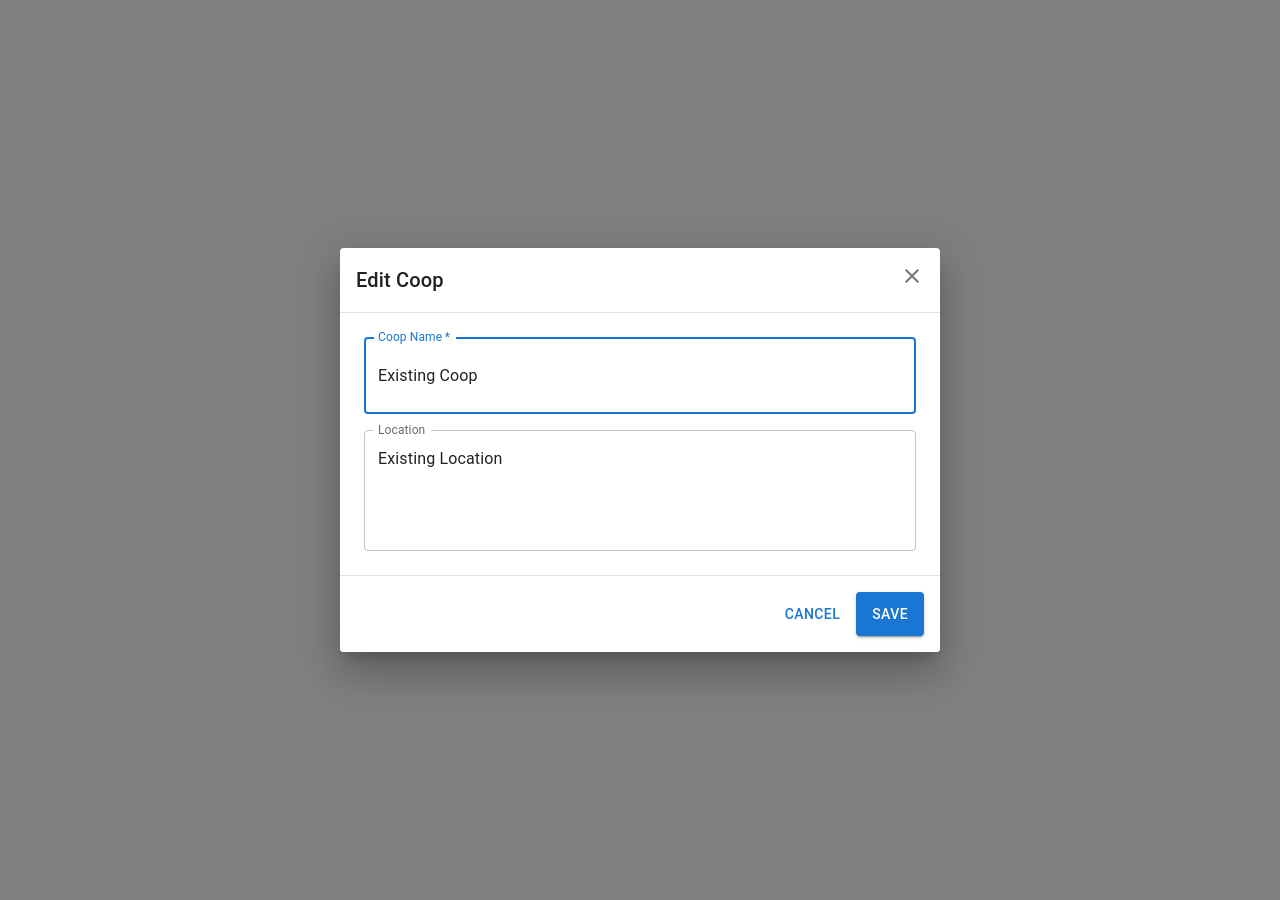
Scenario: EditCoopModal › Form Validation › should clear error when user starts typing valid input
// Clear the field to trigger required error
Clear the field labelled "Coop Name *" at (640, 376), box [364, 337, 916, 414]
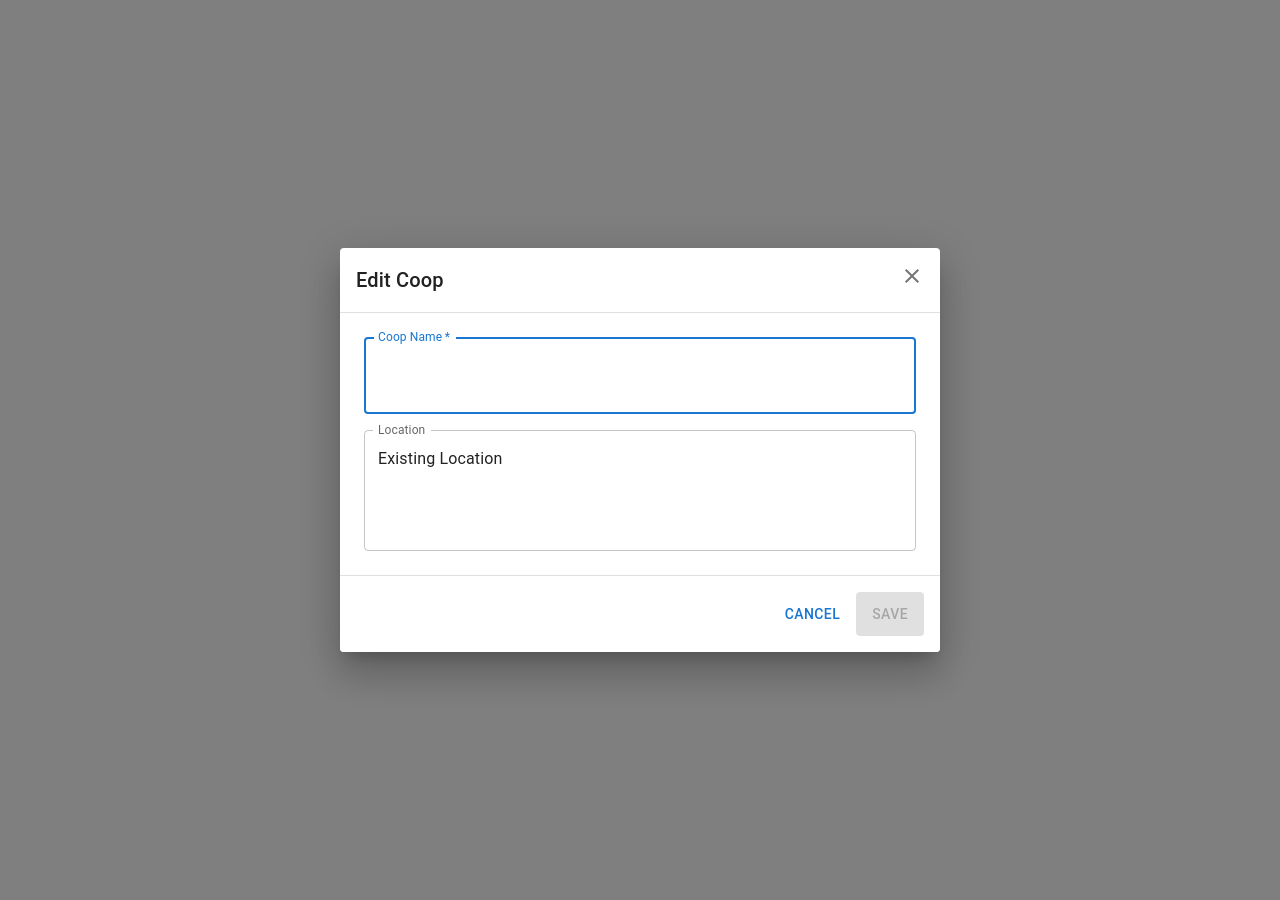
Click the text box labelled "Location".
click(640, 490)  # box [378, 446, 902, 534]
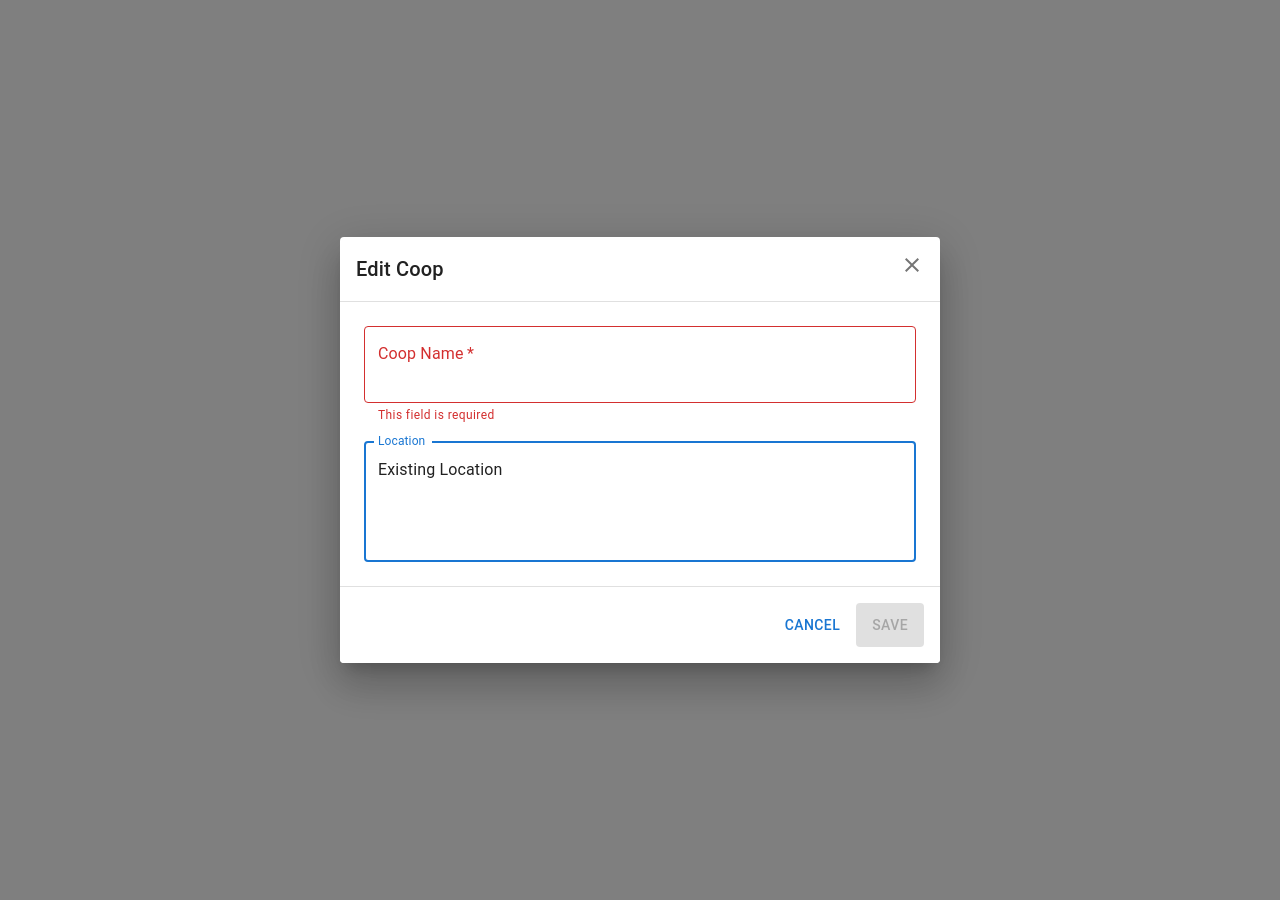
Now the text "This field is required" is shown, box [378, 408, 495, 422]
// Start typing valid input
Type "Valid Name" into the field labelled "Coop Name *".
click(640, 364); type("Valid Name")  # box [364, 326, 916, 402]
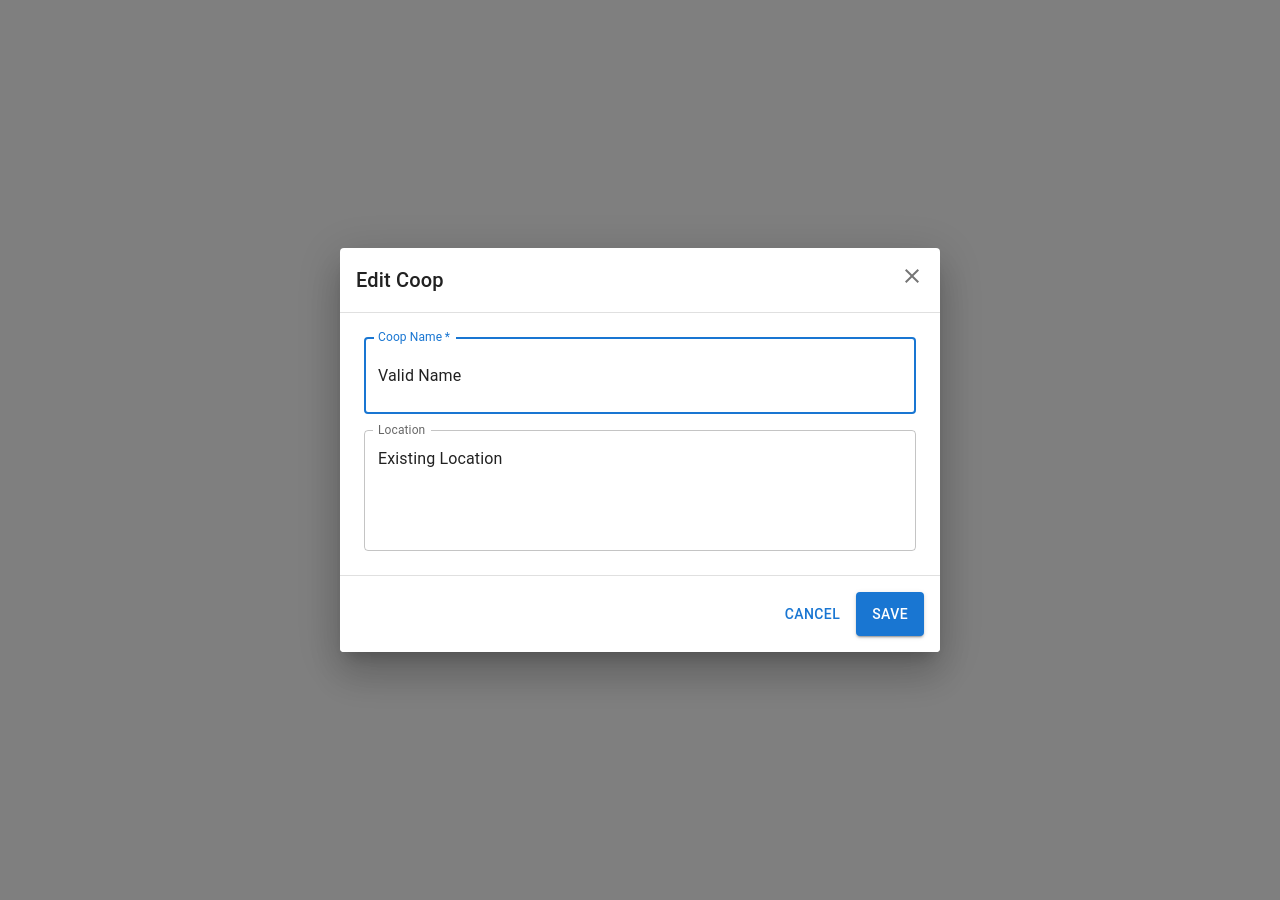
Now the text "This field is required" is gone
